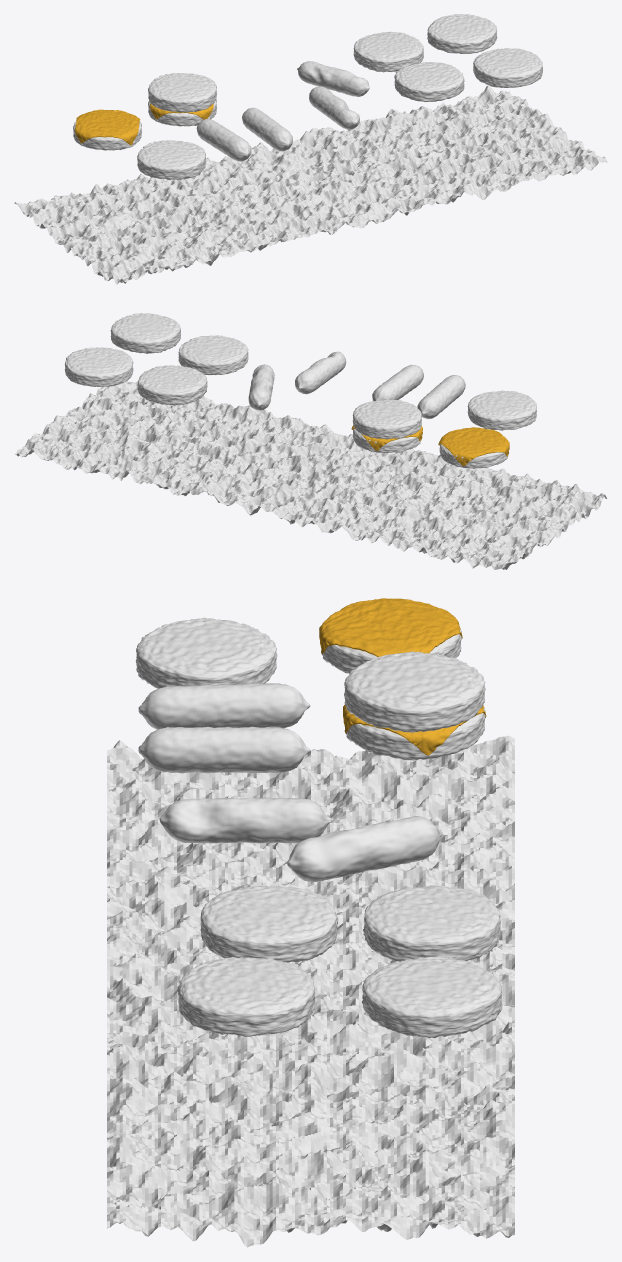
Rendered from meat.fbx.
3 views of the same model, one above another, from view 1: azimuth 30°, elevation 25°; view 2: azimuth 150°, elevation 25°; view 3: azimuth 270°, elevation 25° (orthographic). The views are drawn at different scales.
Visible parts, largest first — view 1: Cylinder.005, Burger_raw, Burger_raw.003, Burger_raw.001, Burger_cooked.002, Burger_cooked.003, Burger_raw.002, Plane.001, Cylinder.006, Cylinder.004, Cylinder.002, Cylinder.003 (+2 smaller); view 2: Cylinder.005, Burger_raw.003, Burger_raw.002, Burger_cooked.002, Burger_cooked.003, Burger_raw.001, Burger_raw, Plane.001, Cylinder.003, Cylinder.004, Cylinder.002, Cylinder.006 (+3 smaller); view 3: Cylinder.005, Burger_cooked.003, Burger_raw.001, Burger_raw.003, Burger_raw, Burger_raw.002, Burger_cooked.002, Cylinder.002, Cylinder.003, Cylinder.004, Cylinder.006, Plane.001 (+3 smaller).
Part boxes in pixels (x1=…): Cylinder.005: x1=14, y1=85, x2=607, y2=284; Burger_raw: x1=394, y1=62, x2=464, y2=102; Burger_raw.003: x1=473, y1=48, x2=542, y2=87; Burger_raw.001: x1=427, y1=14, x2=497, y2=53; Burger_cooked.002: x1=137, y1=140, x2=206, y2=179; Burger_cooked.003: x1=148, y1=73, x2=216, y2=112; Burger_raw.002: x1=353, y1=31, x2=423, y2=72; Plane.001: x1=75, y1=109, x2=140, y2=145; Cylinder.006: x1=297, y1=61, x2=369, y2=96; Cylinder.004: x1=196, y1=118, x2=251, y2=161; Cylinder.002: x1=242, y1=107, x2=292, y2=151; Cylinder.003: x1=309, y1=86, x2=359, y2=129; Cylinder.005: x1=14, y1=380, x2=606, y2=569; Burger_raw.003: x1=110, y1=313, x2=180, y2=353; Burger_raw.002: x1=137, y1=365, x2=207, y2=404; Burger_cooked.002: x1=467, y1=390, x2=536, y2=430; Burger_cooked.003: x1=352, y1=399, x2=421, y2=439; Burger_raw.001: x1=64, y1=347, x2=133, y2=386; Burger_raw: x1=178, y1=335, x2=248, y2=375; Plane.001: x1=438, y1=427, x2=509, y2=466; Cylinder.003: x1=295, y1=351, x2=346, y2=394; Cylinder.004: x1=417, y1=375, x2=465, y2=419; Cylinder.002: x1=372, y1=364, x2=423, y2=400; Cylinder.006: x1=248, y1=364, x2=274, y2=410; Cylinder.005: x1=107, y1=735, x2=514, y2=1247; Burger_cooked.003: x1=344, y1=651, x2=485, y2=732; Burger_raw.001: x1=362, y1=956, x2=502, y2=1038; Burger_raw.003: x1=177, y1=957, x2=315, y2=1036; Burger_raw: x1=200, y1=885, x2=338, y2=962; Burger_raw.002: x1=363, y1=885, x2=500, y2=961; Burger_cooked.002: x1=135, y1=617, x2=277, y2=688; Cylinder.002: x1=138, y1=726, x2=310, y2=773; Cylinder.003: x1=159, y1=797, x2=331, y2=843; Cylinder.004: x1=138, y1=683, x2=310, y2=729; Cylinder.006: x1=287, y1=816, x2=442, y2=881; Plane.001: x1=319, y1=598, x2=462, y2=656.
Size of the model in its own units: 3944 by 902 by 1417.
